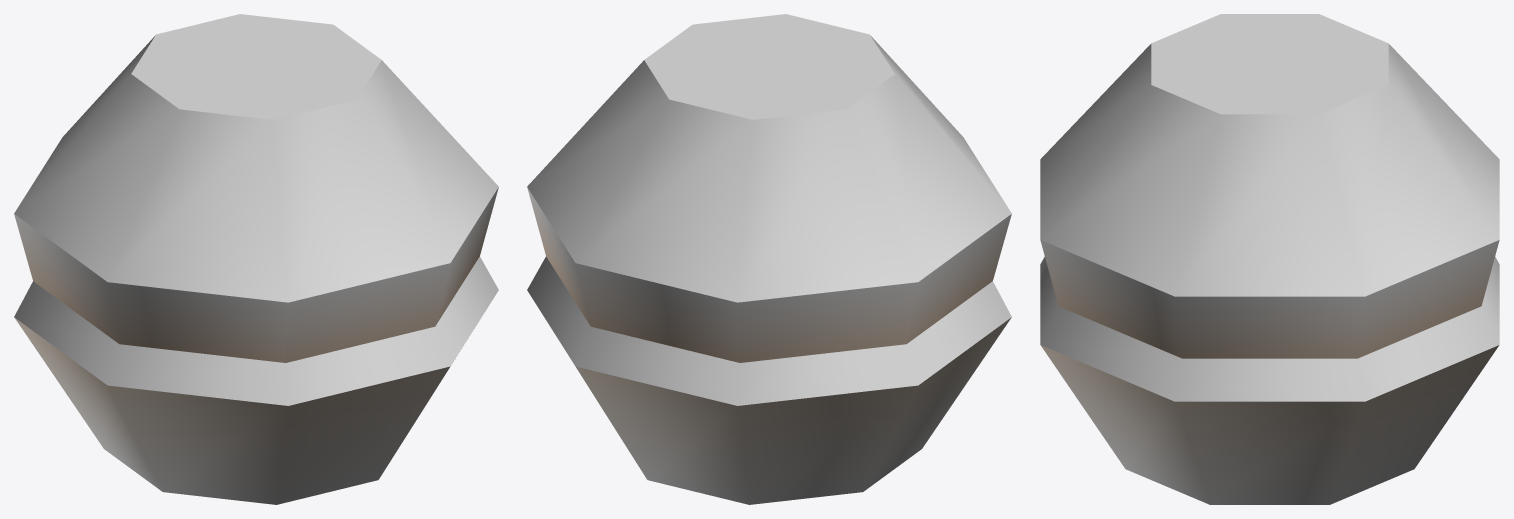
The model's file is proj_canister.glb.
The picture shows the model from 3 angles, left to right: view 1: azimuth 30°, elevation 25°; view 2: azimuth 150°, elevation 25°; view 3: azimuth 270°, elevation 25°; orthographic projection.
Parts seen in each view (by area): view 1: proj_canister_mesh; view 2: proj_canister_mesh; view 3: proj_canister_mesh.
Part boxes in pixels (left/top/right/bottom): proj_canister_mesh: left=14, top=14, right=498, bottom=504; proj_canister_mesh: left=527, top=14, right=1011, bottom=504; proj_canister_mesh: left=1040, top=14, right=1499, bottom=504.
Size of the model in its own units: 0.3289 by 0.3 by 0.3289.
